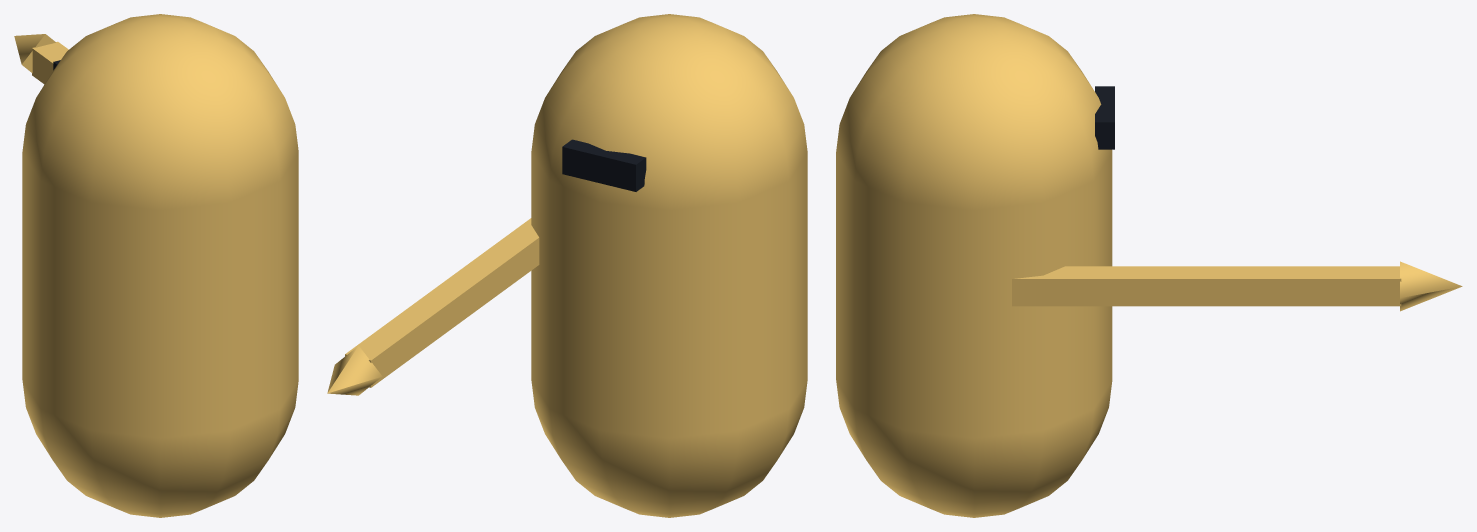
Rendered from enemy-playground-bad-form-duelist-v1.glb.
3 renders of one model, left to right at view 1: azimuth 30°, elevation 25°; view 2: azimuth 150°, elevation 25°; view 3: azimuth 270°, elevation 25°, orthographic.
Parts seen in each view (by area): view 1: Bad Form Duelist; view 2: Bad Form Duelist; view 3: Bad Form Duelist.
Part boxes in pixels (x1,y1,x2,y2): Bad Form Duelist: (14,14,298,517); Bad Form Duelist: (327,14,807,517); Bad Form Duelist: (836,14,1462,517).
Bounding box in the file's own units: 1.11 × 2.1 × 2.5.
